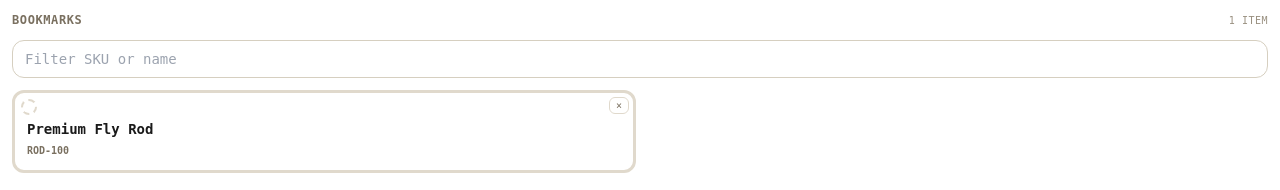
<BookmarkPane> › × on a tile removes it from the bookmarks store
Click the button named "remove rod-100 from bookmarks" at (619, 106), box [609,97,629,114]
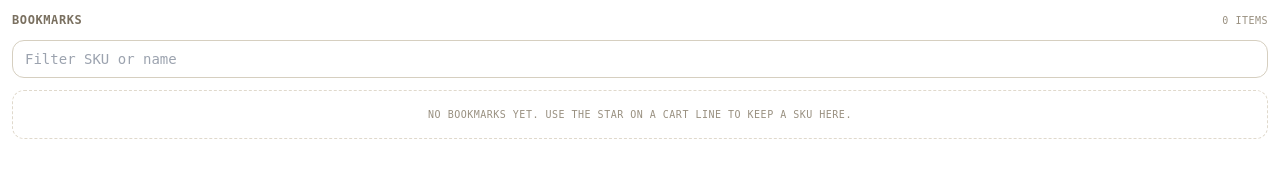
Now the element with test id "bookmarks-empty" is shown, box [12,90,1268,139]
